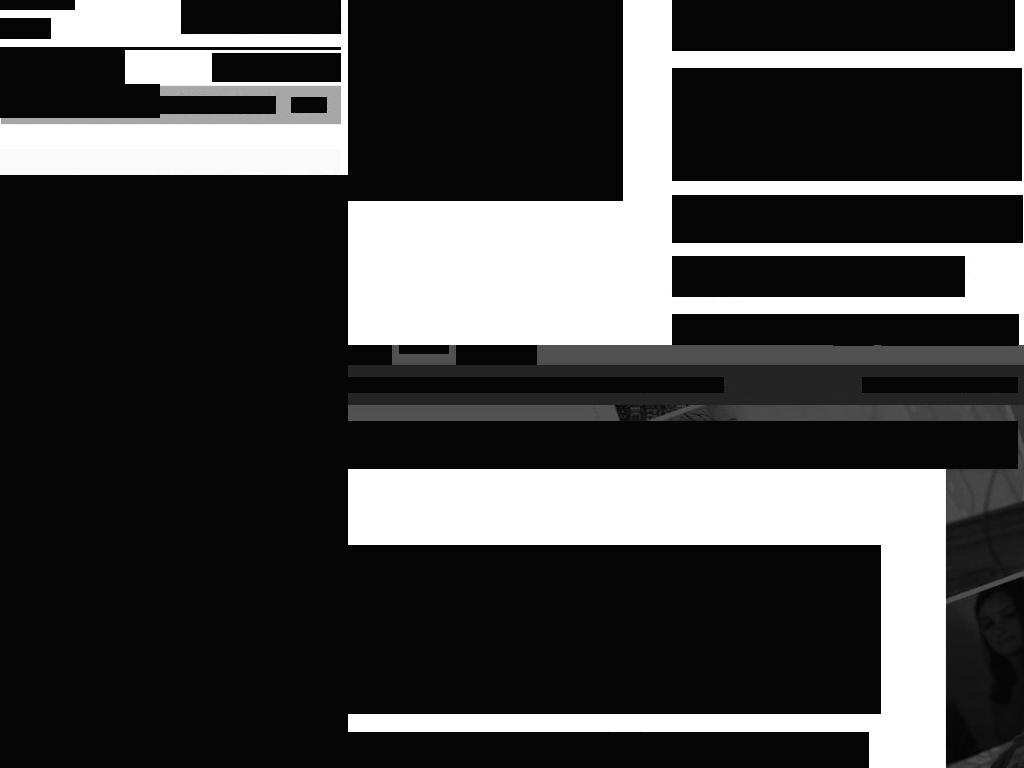button: (0, 345, 348, 647), (808, 429, 930, 461), (212, 53, 341, 82), (64, 84, 160, 118), (862, 377, 1018, 393), (930, 429, 1002, 461), (58, 50, 125, 84), (4, 84, 64, 118), (0, 50, 58, 84), (456, 345, 537, 365), (348, 345, 392, 365)
field: (348, 421, 1018, 469)
heading: (348, 579, 459, 623)
iframe: (0, 175, 348, 345), (181, 0, 341, 34)
image: (0, 345, 348, 768), (348, 0, 623, 201), (958, 437, 974, 453), (1004, 378, 1018, 392), (899, 437, 913, 451), (224, 59, 237, 72)
link: (672, 256, 965, 297), (694, 732, 791, 750), (409, 732, 502, 750), (628, 377, 724, 393), (808, 338, 952, 345), (291, 97, 327, 113)
text: (348, 545, 881, 714), (672, 68, 1022, 181), (348, 732, 869, 768), (672, 0, 1015, 51), (672, 195, 1023, 243), (672, 314, 1019, 345), (348, 377, 629, 393), (672, 68, 924, 85), (500, 732, 695, 750), (862, 377, 996, 393), (672, 256, 773, 273), (240, 58, 329, 76), (141, 96, 212, 114), (61, 96, 126, 114), (211, 96, 276, 114), (348, 732, 409, 750), (15, 96, 62, 114), (923, 68, 963, 85)
